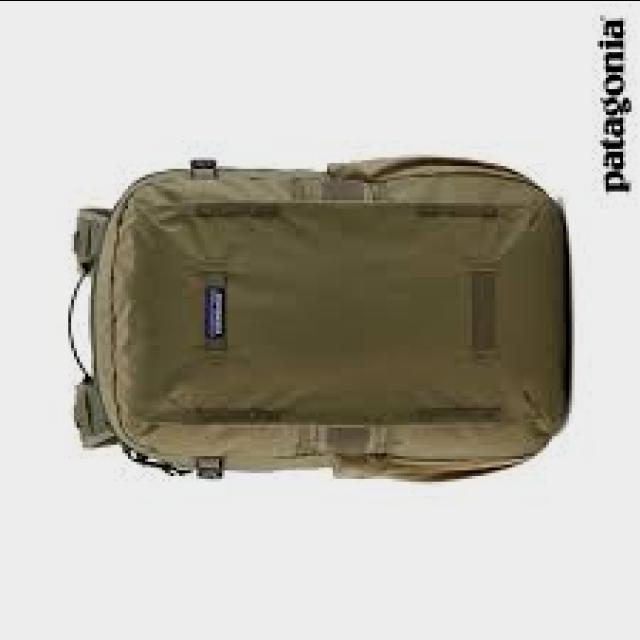backpack: (66, 158, 570, 485)
